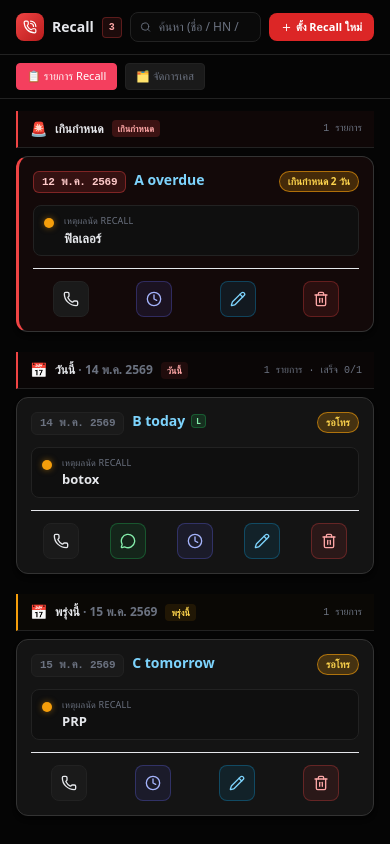
Scenario: Phase 29 · T4 row interactions › T4.4 click row body opens outcome modal
What coordinates should you click on to do the following:
click the text "A overdue"
I would click on:
 (169, 179)
Its box is [134,170,204,188].
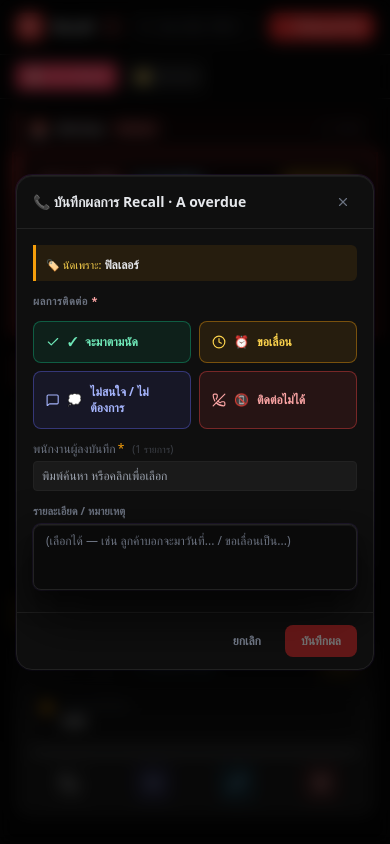
Expected: the element with test id "recall-outcome-modal" is shown
